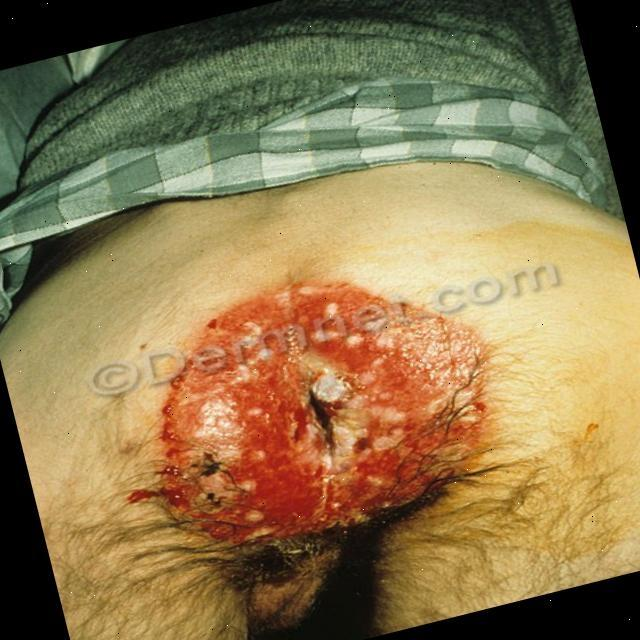Shingles: (162, 281, 484, 538)
